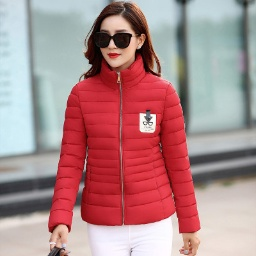face: (82, 1, 161, 77)
